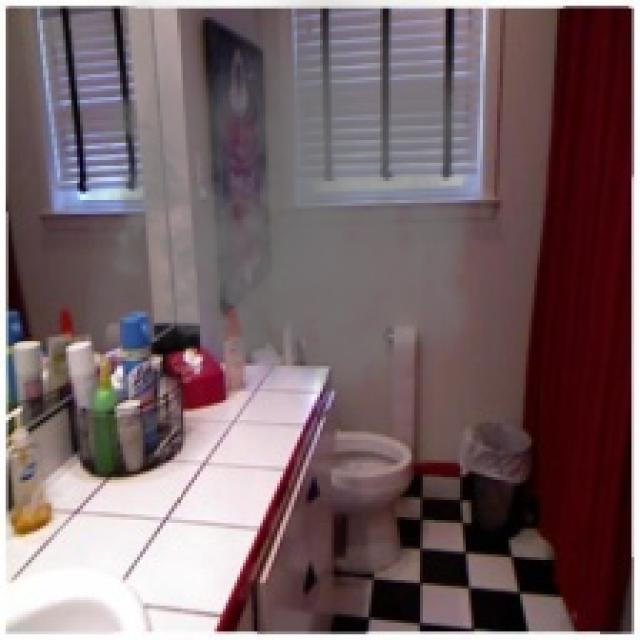smoke: (86, 0, 494, 417)
